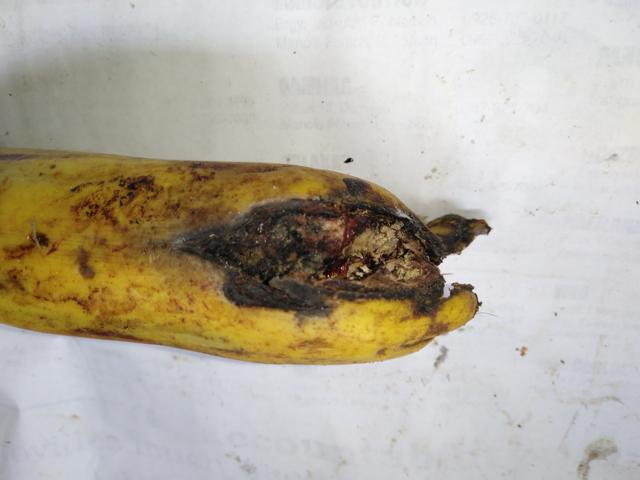ripe: (0, 134, 494, 375)
rotten: (164, 166, 519, 374)
